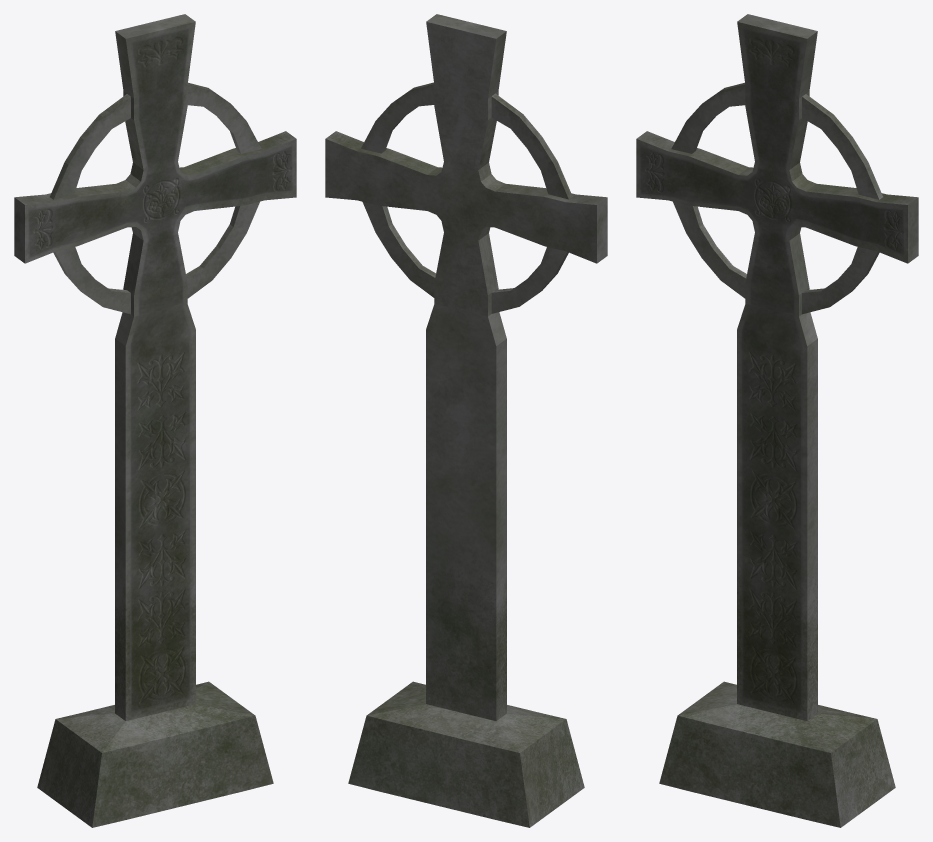
Rendered from grave_05.fbx.
3 renders of one model, left to right at view 1: azimuth 30°, elevation 25°; view 2: azimuth 150°, elevation 25°; view 3: azimuth 330°, elevation 25°, orthographic.
Parts seen in each view (by area): view 1: grave 5; view 2: grave 5; view 3: grave 5.
Boxes of the visible parts, x1,y1,x2,y2 form: grave 5: (14, 14, 296, 827); grave 5: (325, 14, 607, 827); grave 5: (636, 14, 918, 827).
Size of the model in its own units: 0.7657 by 2.05 by 0.2688.
